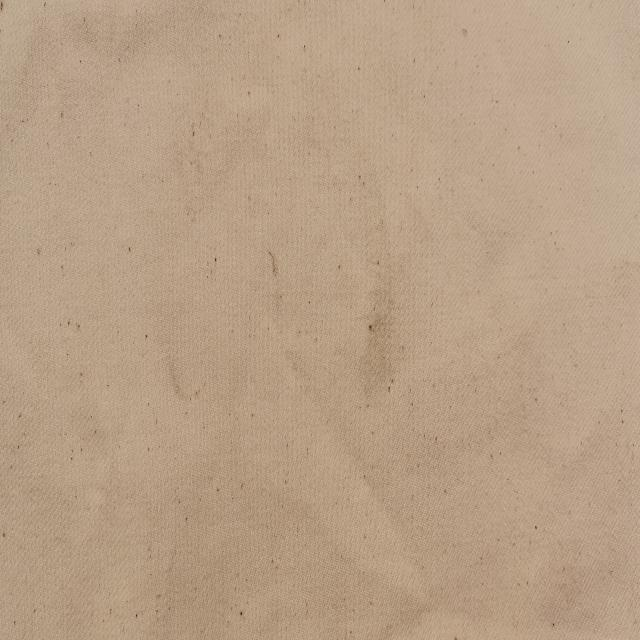taaaches: (357, 292, 402, 402)
